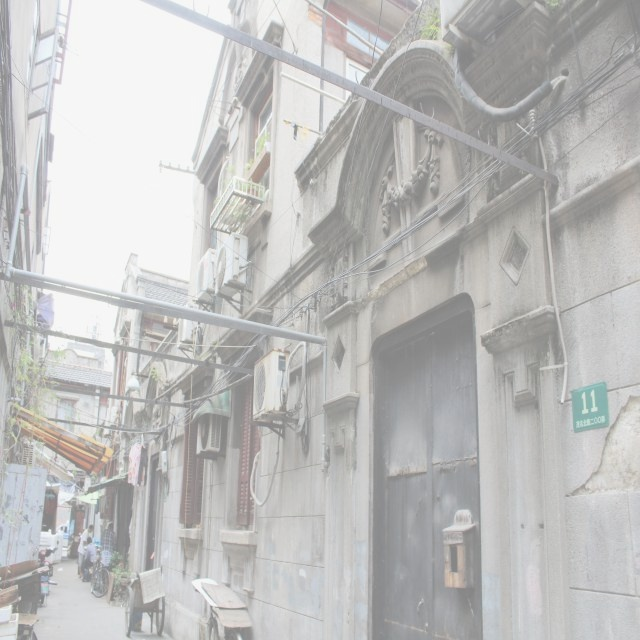pessoa: (77, 524, 94, 579), (100, 522, 116, 568), (81, 536, 97, 581), (60, 524, 64, 534)
